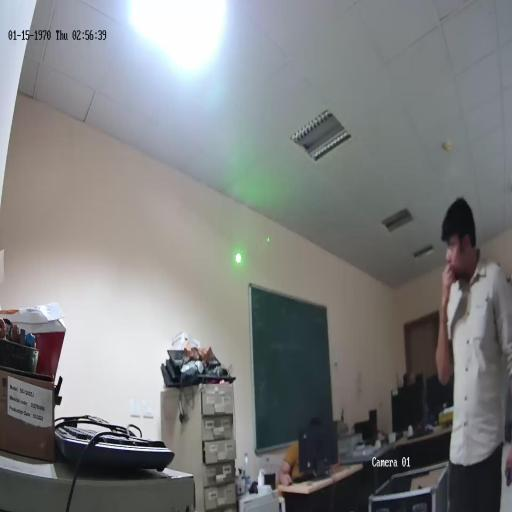laser: (231, 245, 244, 267)
